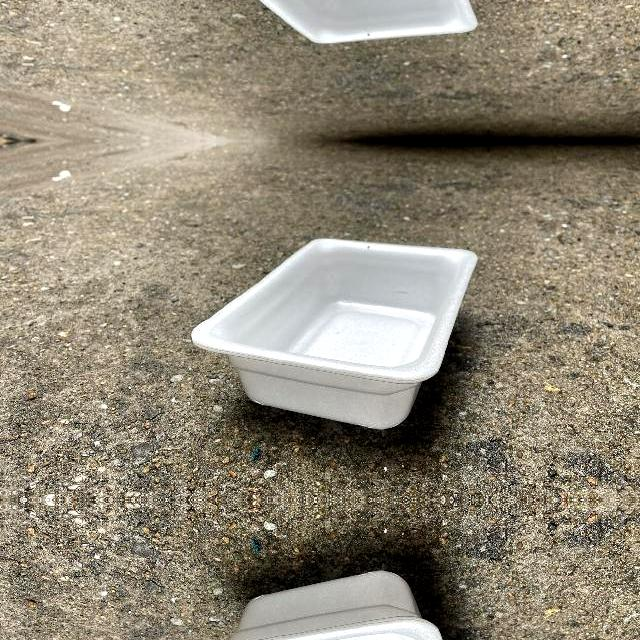Styrofoam: (191, 238, 479, 430), (191, 237, 478, 429), (191, 568, 479, 640), (230, 569, 443, 640), (191, 0, 479, 41)
